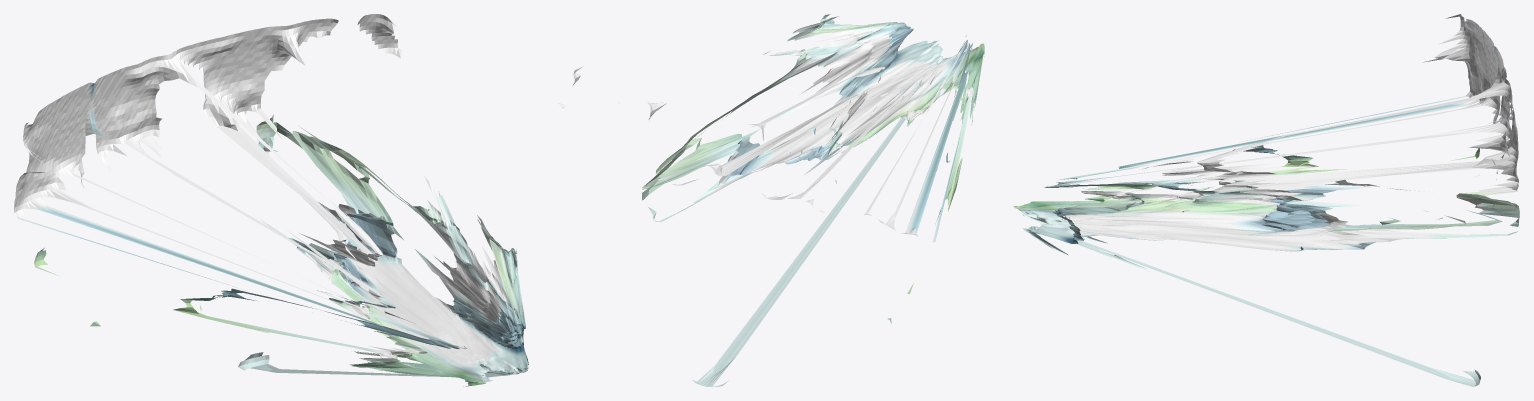
The picture shows the model from 3 angles, left to right: view 1: azimuth 30°, elevation 25°; view 2: azimuth 150°, elevation 25°; view 3: azimuth 270°, elevation 25°; orthographic projection. The views are drawn at different scales.
Parts seen in each view (by area): view 1: defaultobject; view 2: defaultobject; view 3: defaultobject.
Part boxes in pixels (x1,y1,x2,y2): defaultobject: [14, 14, 528, 386]; defaultobject: [558, 14, 984, 386]; defaultobject: [1013, 14, 1519, 386].
Bounding box in the file's own units: 35.34 × 27 × 44.71.
Materials: 1 (1 with a texture image).
